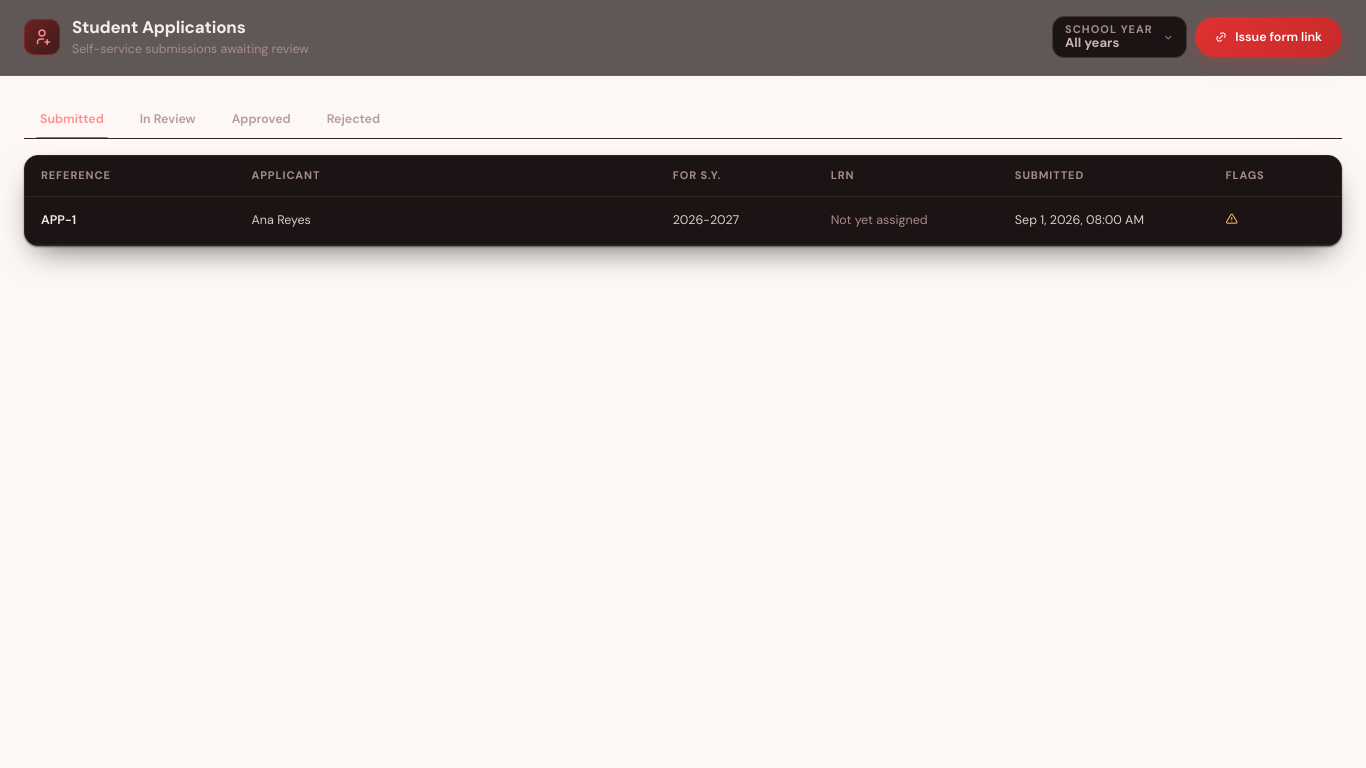
Test: Student applications in dark mode › lists the queue and opens the issue window
What coordinates should you click on to do the following:
click the button "Issue form link"
I would click on:
 (1268, 37)
Its box is top-left (1195, 17), bottom-right (1342, 57).
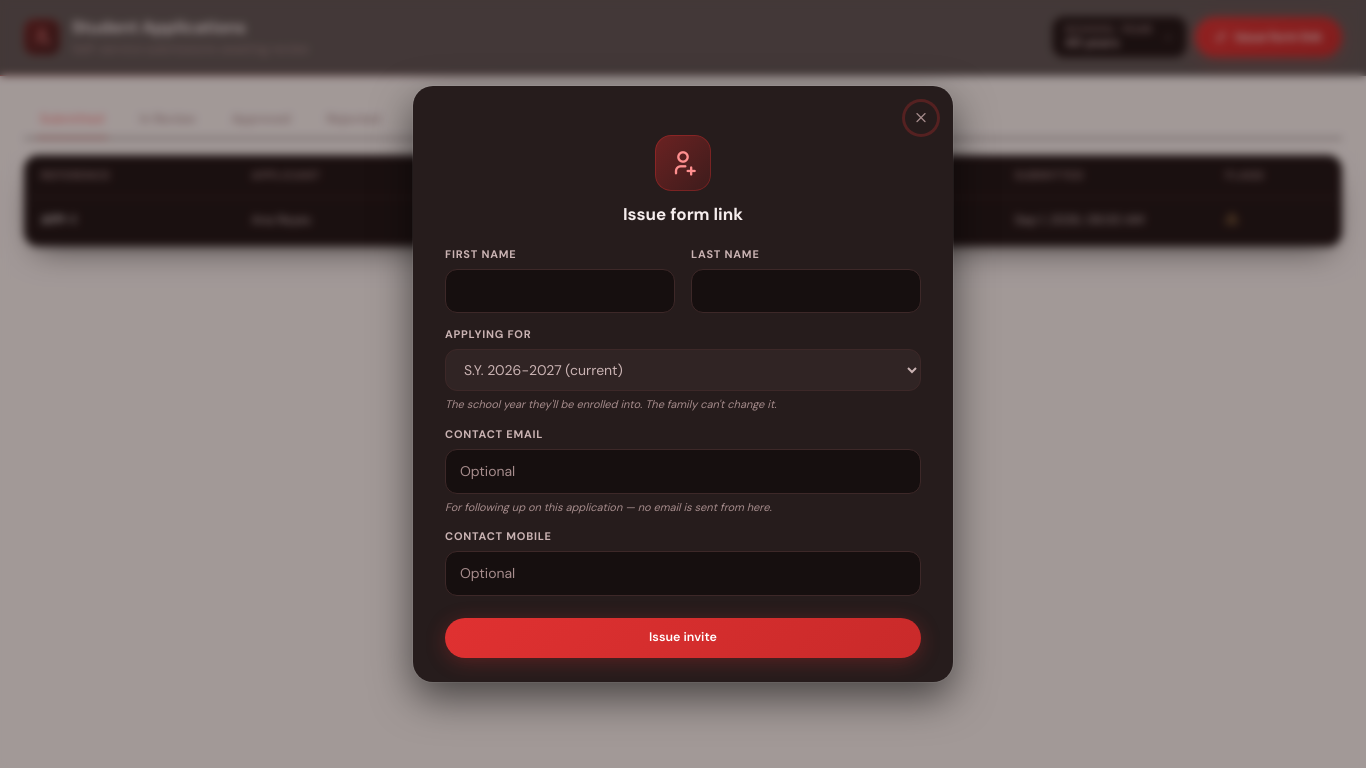
Now the text "Contact Email" is shown, box top-left (445, 427), bottom-right (543, 441)
